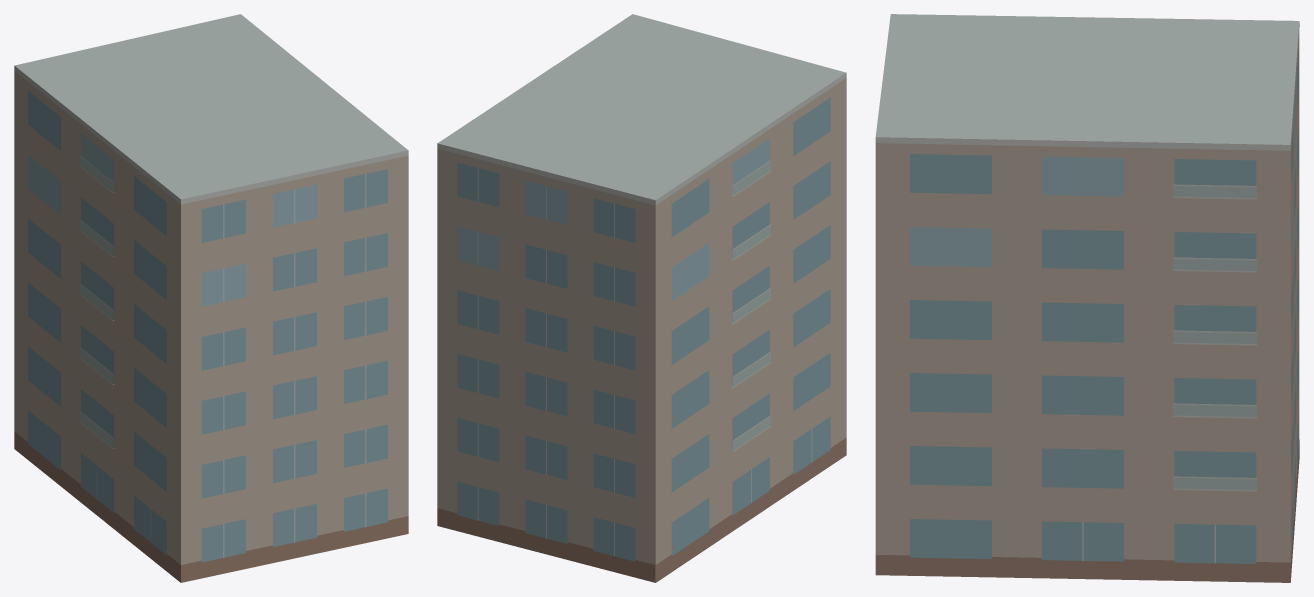
File: survey-upis-32962684.glb
3 renders of one model, left to right at view 1: azimuth 30°, elevation 25°; view 2: azimuth 150°, elevation 25°; view 3: azimuth 270°, elevation 25°, orthographic. The views are drawn at different scales.
Parts seen in each view (by area): view 1: survey-upis-32962684.tmp; view 2: survey-upis-32962684.tmp; view 3: survey-upis-32962684.tmp.
Boxes of the visible parts, x1=… form: survey-upis-32962684.tmp: x1=14, y1=14, x2=408, y2=582; survey-upis-32962684.tmp: x1=437, y1=14, x2=846, y2=582; survey-upis-32962684.tmp: x1=875, y1=14, x2=1299, y2=582.
Bounding box in the file's own units: 11.71 × 18.25 × 16.02.
